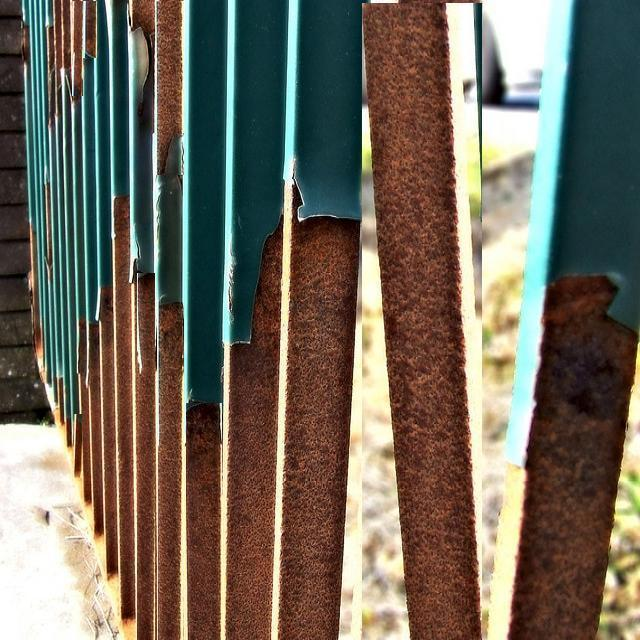Corrosion: (20, 0, 636, 638), (361, 1, 483, 638), (506, 272, 637, 638)
